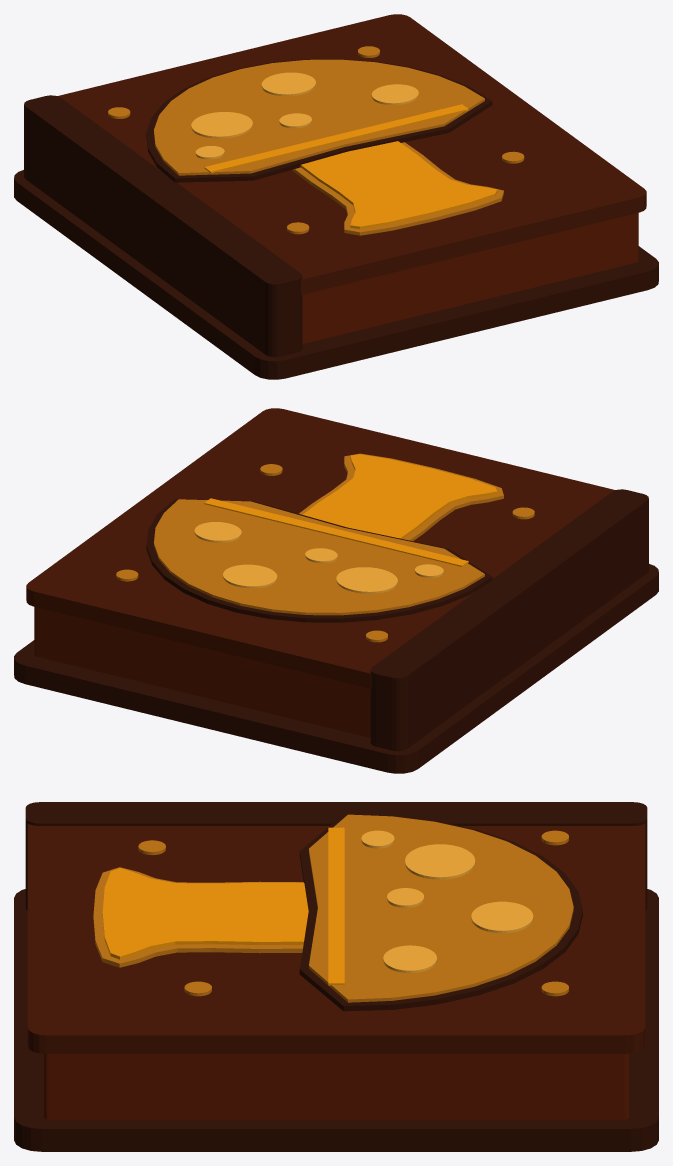
Rendered from book_cogumelo.fbx.
3 views of the same model, one above another, from view 1: azimuth 30°, elevation 25°; view 2: azimuth 150°, elevation 25°; view 3: azimuth 270°, elevation 25° (orthographic). The views are drawn at different scales.
Parts seen in each view (by area): view 1: book_cogumelo_livro; view 2: book_cogumelo_livro; view 3: book_cogumelo_livro.
Part boxes in pixels (x1,y1,x2,y2): book_cogumelo_livro: (14,14,658,379); book_cogumelo_livro: (14,408,658,773); book_cogumelo_livro: (14,802,658,1151).
Bounding box in the file's own units: 2.49 × 0.604 × 2.8.
1 material, 1 textured.
